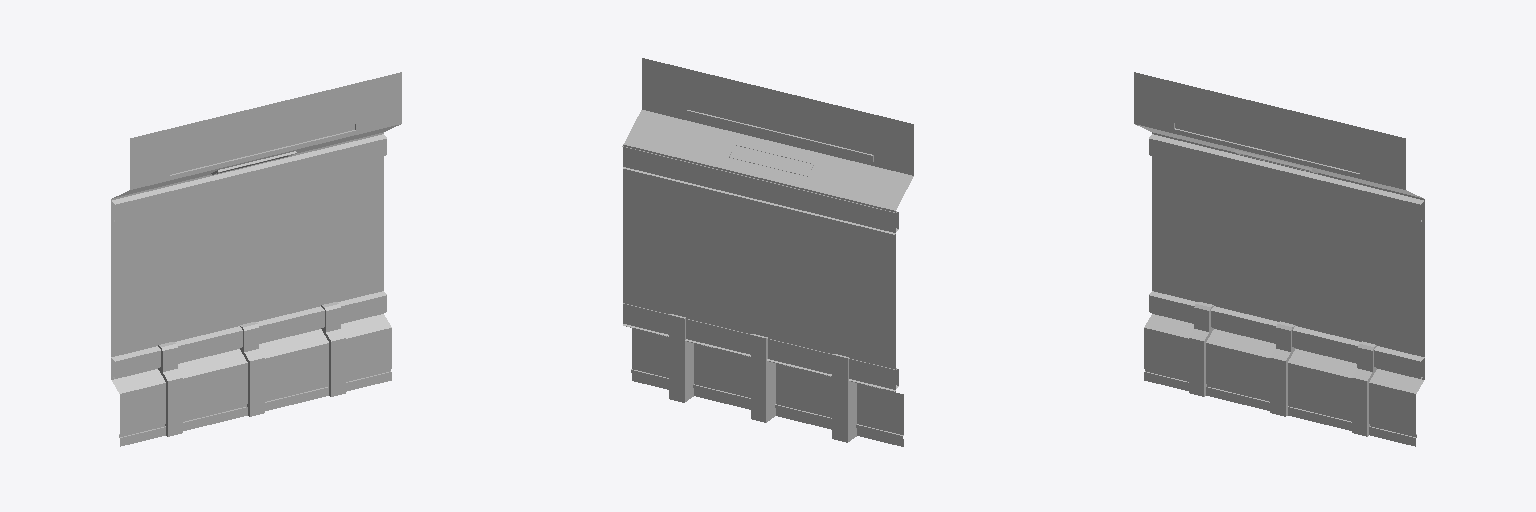
Rendered from Wall_Empty.obj.
3 renders of one model, left to right at view 1: azimuth 30°, elevation 25°; view 2: azimuth 150°, elevation 25°; view 3: azimuth 330°, elevation 25°, orthographic.
Visible parts, largest first — view 1: Wall_Empty_Plane.111; view 2: Wall_Empty_Plane.111; view 3: Wall_Empty_Plane.111.
Boxes of the visible parts, x1,y1,x2,y2 form: Wall_Empty_Plane.111: [111, 72, 401, 446]; Wall_Empty_Plane.111: [622, 58, 913, 446]; Wall_Empty_Plane.111: [1134, 72, 1424, 446].
Size of the model in its own units: 4 by 4.43 by 0.4991.